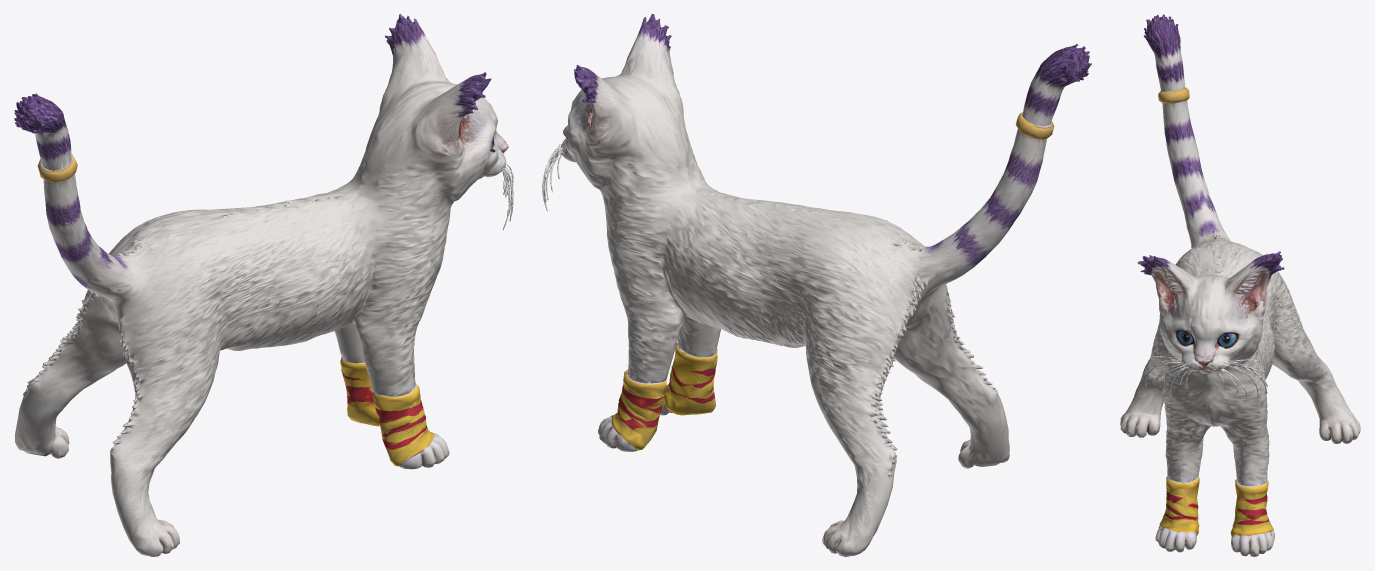
Rendered from GATOMON.glb.
3 views of the same model, side by side, from view 1: azimuth 30°, elevation 25°; view 2: azimuth 150°, elevation 25°; view 3: azimuth 270°, elevation 25° (orthographic). The views are drawn at different scales.
Visible parts, largest first — view 1: tripo_node_e3bcb8b2-0be1-464f-94e5-1f288be22450; view 2: tripo_node_e3bcb8b2-0be1-464f-94e5-1f288be22450; view 3: tripo_node_e3bcb8b2-0be1-464f-94e5-1f288be22450.
Part boxes in pixels (x1,y1,x2,y2): tripo_node_e3bcb8b2-0be1-464f-94e5-1f288be22450: (14,14,513,556); tripo_node_e3bcb8b2-0be1-464f-94e5-1f288be22450: (542,14,1091,556); tripo_node_e3bcb8b2-0be1-464f-94e5-1f288be22450: (1120,14,1360,556).
Size of the model in its own units: 1.15 by 0.999 by 0.5817.
Materials: 1 (1 with a texture image).
